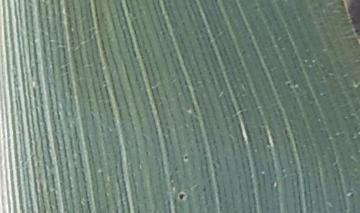tarspot: (176, 193, 186, 200), (182, 152, 189, 160)
